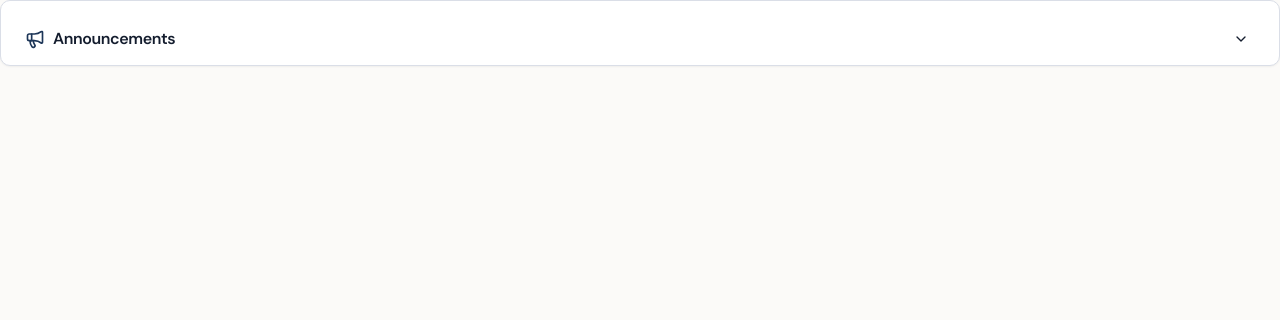
Test case: AnnouncementsSection › initial fold › stays where the student put it across a refetch
The image size is (1280, 320).
Click the button named "Expand announcements" at (1241, 39), box [1227,25,1255,53]
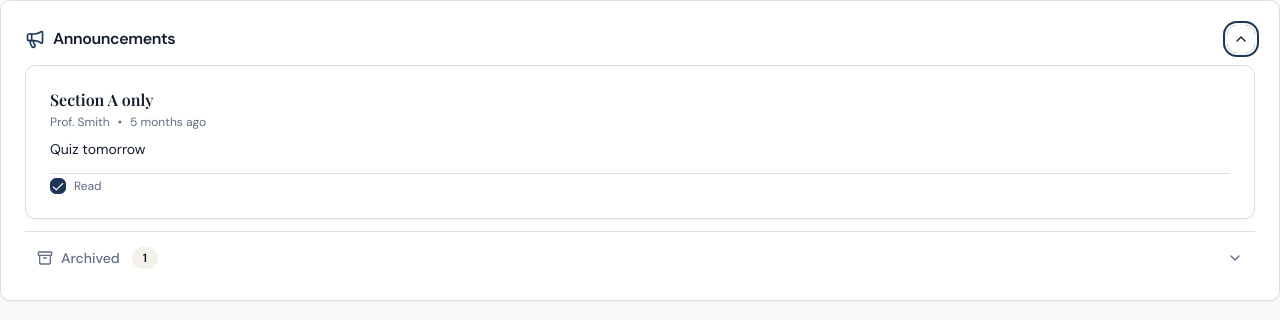
Result: the heading "Section A only" is shown at [50,90,154,110]
Click the checkbox named "Read" at (58, 186), box [50,178,66,194]
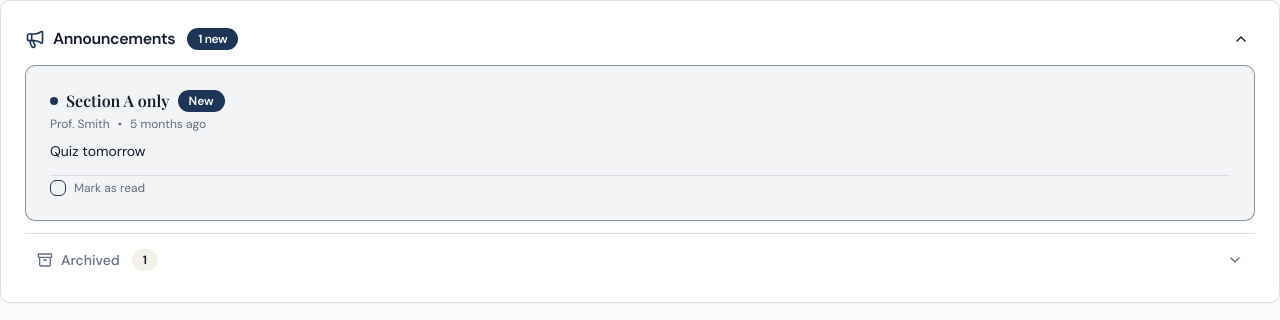
Result: the heading "Section A only" is shown at [66,91,170,111]
Result: the button named "Collapse announcements" is shown at [1227,25,1255,53]
Result: the text "1 new" is shown at [187,28,238,50]
